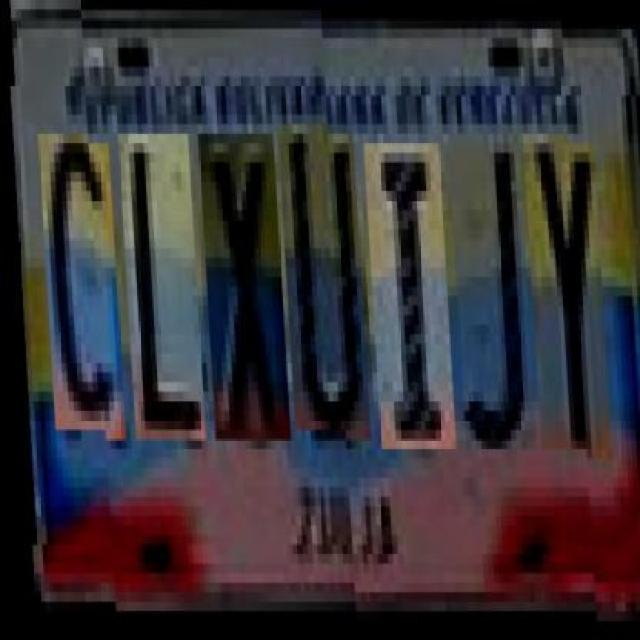c: (36, 143, 121, 440)
i: (362, 133, 451, 439)
j: (445, 125, 530, 440)
l: (116, 133, 201, 439)
u: (276, 124, 366, 430)
x: (197, 133, 286, 439)
y: (521, 125, 605, 440)
